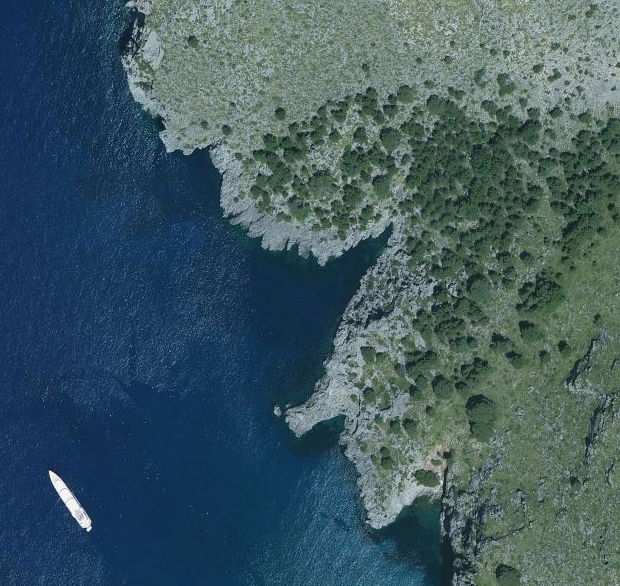ship: (44, 466, 100, 536)
